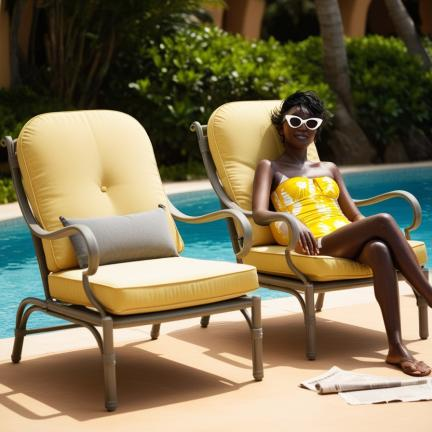empty chair: (2, 111, 263, 411)
guest on chair: (192, 91, 432, 373)
